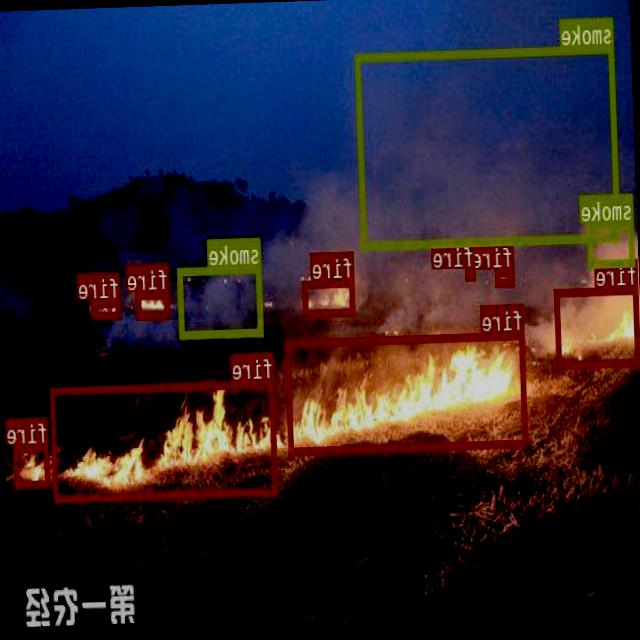fire: (286, 331, 528, 453), (50, 378, 279, 500), (555, 284, 640, 367), (302, 277, 356, 315), (14, 442, 52, 488), (136, 290, 170, 318), (92, 298, 122, 318), (496, 267, 514, 284), (466, 267, 476, 278)
smoke: (356, 43, 622, 249), (178, 262, 263, 338), (588, 219, 636, 267)
